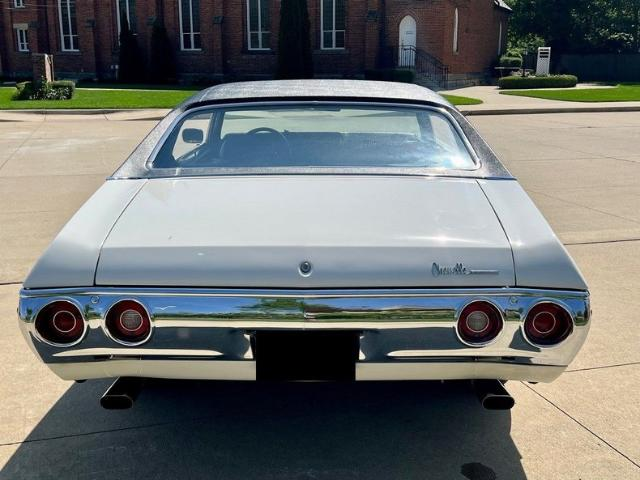chevelle-1972: (19, 81, 591, 409)
